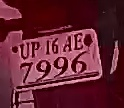1: (42, 37, 51, 56)
6: (70, 52, 91, 73), (49, 37, 61, 56)
7: (17, 62, 34, 83)
9: (53, 55, 70, 76), (35, 59, 51, 79)
A: (60, 35, 74, 54)
E: (72, 32, 85, 52)
P: (31, 41, 42, 59)
U: (20, 41, 30, 60)
